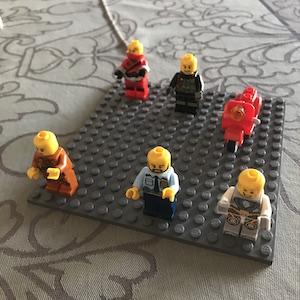Lego: (214, 169, 274, 245), (124, 144, 180, 225), (27, 130, 77, 202), (114, 38, 150, 103), (167, 53, 203, 113)
